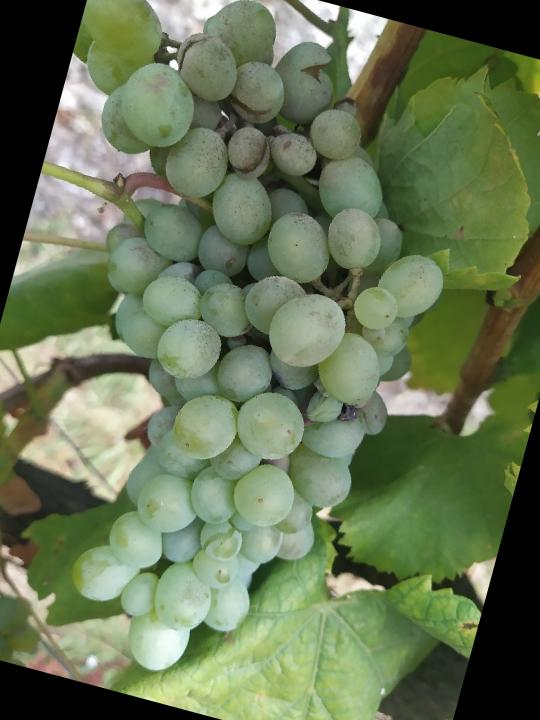grape: (0, 0, 506, 720)
